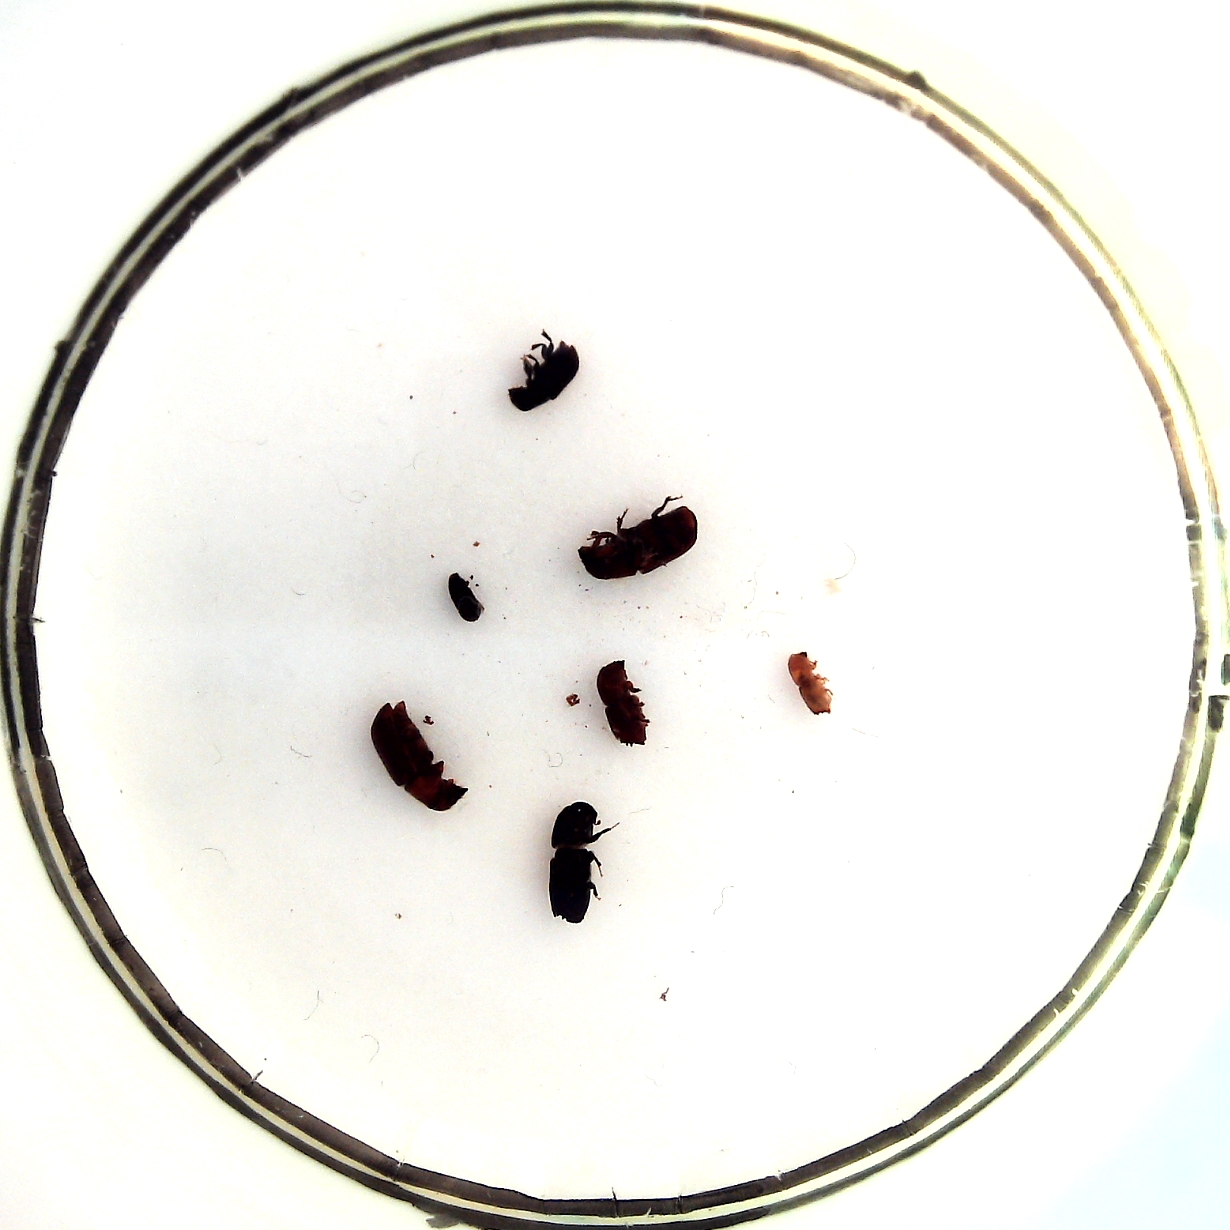Boerner: (549, 801, 599, 922)
Leconte: (371, 699, 469, 811), (578, 507, 697, 580)
acuminatus: (448, 571, 481, 621)
armandi: (509, 340, 580, 412)
coleoptera: (788, 651, 834, 716)
linnaeus: (598, 661, 650, 748)
